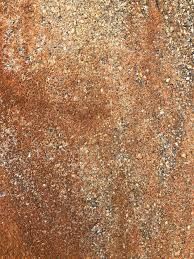rust: (1, 1, 193, 259)
